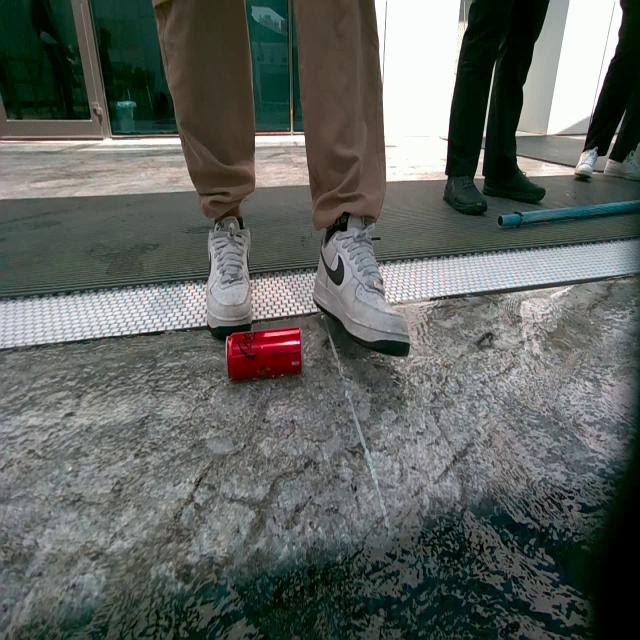Cans: (229, 330, 306, 384)
